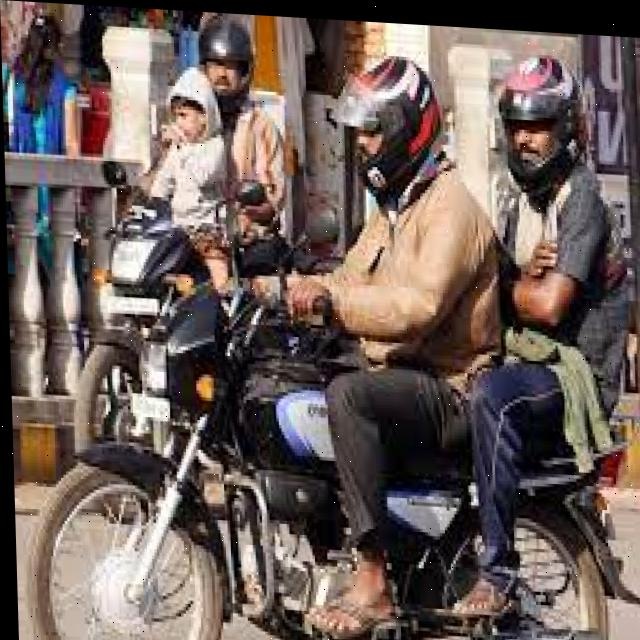Helmet: (326, 46, 443, 206), (488, 36, 585, 193), (195, 12, 258, 116)
